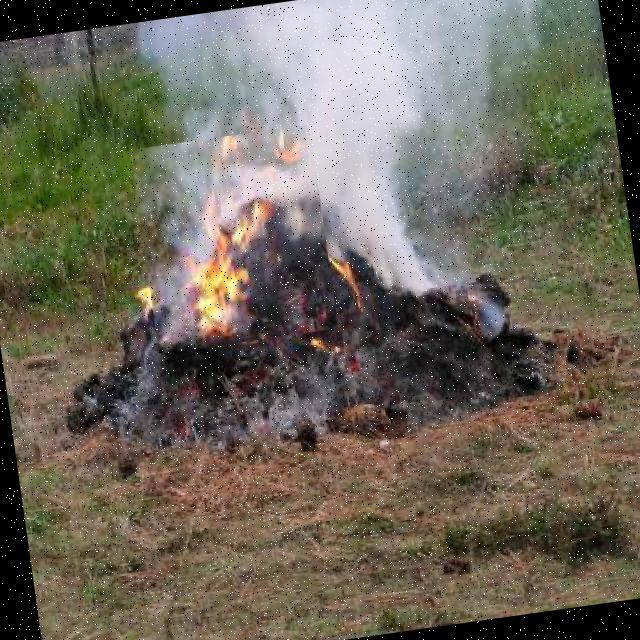fire: (130, 124, 338, 353)
